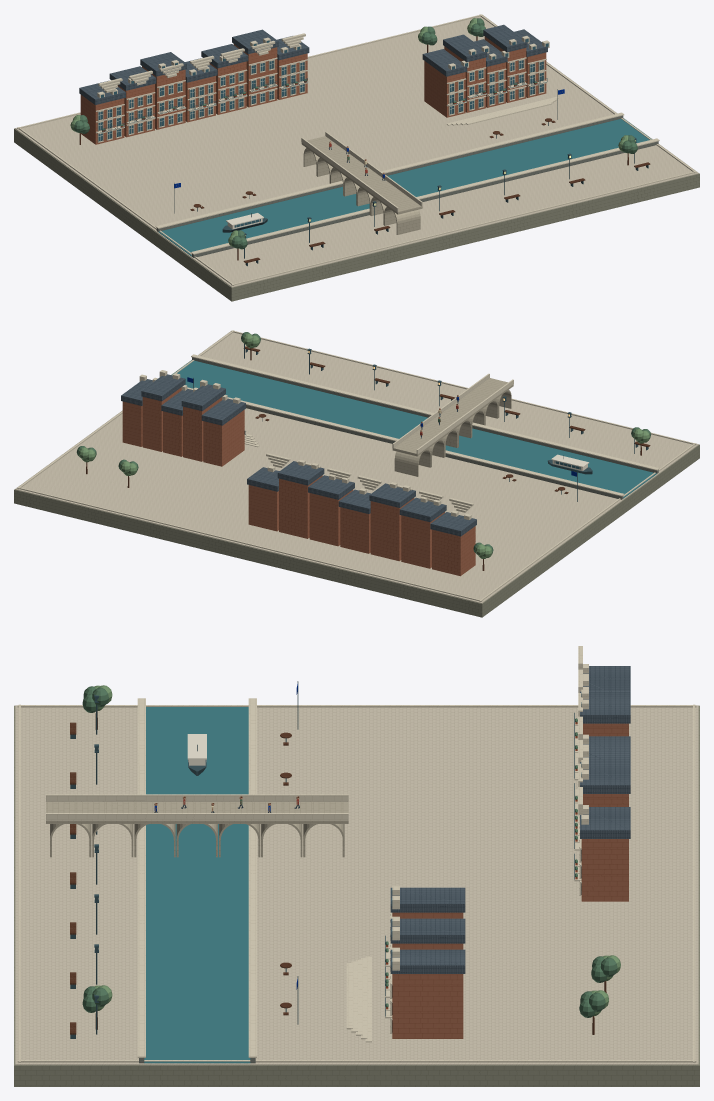
File: maastricht-reference.glb
3 views of the same model, one above another, from view 1: azimuth 30°, elevation 25°; view 2: azimuth 150°, elevation 25°; view 3: azimuth 270°, elevation 25° (orthographic). The views are drawn at different scales.
Parts seen in each view (by area): view 1: maastricht_arquitetura_Calcada portuguesa, maastricht_arquitetura_Cantaria clara, maastricht_arquitetura_Douro agua, maastricht_arquitetura_Corte de terreno, maastricht_arquitetura_Tijolo flamengo, maastricht_arquitetura_Ardosia europeia, maastricht_arquitetura_Granito do cais, maastricht_arquitetura_Vidro das janelas, maastricht_arquitetura_Muralha de granito, maastricht_arquitetura_Ferro pintado da ponte, maastricht_arquitetura_Folhagem, maastricht_arquitetura_Marfim pintado (+1 smaller); view 2: maastricht_arquitetura_Calcada portuguesa, maastricht_arquitetura_Tijolo flamengo, maastricht_arquitetura_Douro agua, maastricht_arquitetura_Corte de terreno, maastricht_arquitetura_Cantaria clara, maastricht_arquitetura_Ardosia europeia, maastricht_arquitetura_Granito do cais, maastricht_arquitetura_Muralha de granito, maastricht_arquitetura_Folhagem clara, maastricht_arquitetura_Madeira de rabelo; view 3: maastricht_arquitetura_Calcada portuguesa, maastricht_arquitetura_Douro agua, maastricht_arquitetura_Cantaria clara, maastricht_arquitetura_Corte de terreno, maastricht_arquitetura_Ardosia europeia, maastricht_arquitetura_Tijolo flamengo, maastricht_arquitetura_Granito do cais, maastricht_arquitetura_Folhagem, maastricht_arquitetura_Ferro pintado da ponte, maastricht_arquitetura_Madeira de rabelo.
Part boxes in pixels (box(x1,y1,x2,y2)): maastricht_arquitetura_Calcada portuguesa: box(15, 14, 698, 287); maastricht_arquitetura_Cantaria clara: box(17, 14, 696, 285); maastricht_arquitetura_Douro agua: box(158, 118, 651, 256); maastricht_arquitetura_Corte de terreno: box(14, 64, 699, 301); maastricht_arquitetura_Tijolo flamengo: box(80, 36, 546, 144); maastricht_arquitetura_Ardosia europeia: box(79, 24, 547, 104); maastricht_arquitetura_Granito do cais: box(301, 136, 422, 234); maastricht_arquitetura_Vidro das janelas: box(98, 38, 548, 140); maastricht_arquitetura_Muralha de granito: box(156, 115, 658, 257); maastricht_arquitetura_Ferro pintado da ponte: box(99, 78, 648, 266); maastricht_arquitetura_Folhagem: box(74, 18, 637, 249); maastricht_arquitetura_Marfim pintado: box(99, 61, 543, 140); maastricht_arquitetura_Calcada portuguesa: box(15, 330, 698, 603); maastricht_arquitetura_Tijolo flamengo: box(122, 387, 475, 576); maastricht_arquitetura_Douro agua: box(171, 360, 656, 498); maastricht_arquitetura_Corte de terreno: box(14, 444, 699, 617); maastricht_arquitetura_Cantaria clara: box(17, 330, 696, 601); maastricht_arquitetura_Ardosia europeia: box(121, 374, 476, 536); maastricht_arquitetura_Granito do cais: box(392, 378, 513, 476); maastricht_arquitetura_Muralha de granito: box(192, 357, 658, 499); maastricht_arquitetura_Folhagem clara: box(78, 333, 650, 558); maastricht_arquitetura_Madeira de rabelo: box(86, 346, 650, 570); maastricht_arquitetura_Calcada portuguesa: box(15, 705, 698, 1064); maastricht_arquitetura_Douro agua: box(144, 707, 250, 1063); maastricht_arquitetura_Cantaria clara: box(17, 646, 696, 1062); maastricht_arquitetura_Corte de terreno: box(14, 705, 699, 1086); maastricht_arquitetura_Ardosia europeia: box(390, 666, 630, 973); maastricht_arquitetura_Tijolo flamengo: box(392, 723, 628, 1038); maastricht_arquitetura_Granito do cais: box(46, 802, 348, 857); maastricht_arquitetura_Folhagem: box(82, 686, 617, 1017); maastricht_arquitetura_Ferro pintado da ponte: box(70, 681, 574, 1038); maastricht_arquitetura_Madeira de rabelo: box(70, 711, 606, 1034).
Bounding box in the file's own units: 72 × 11.32 × 58.
Materials: 23 (9 with a texture image).
